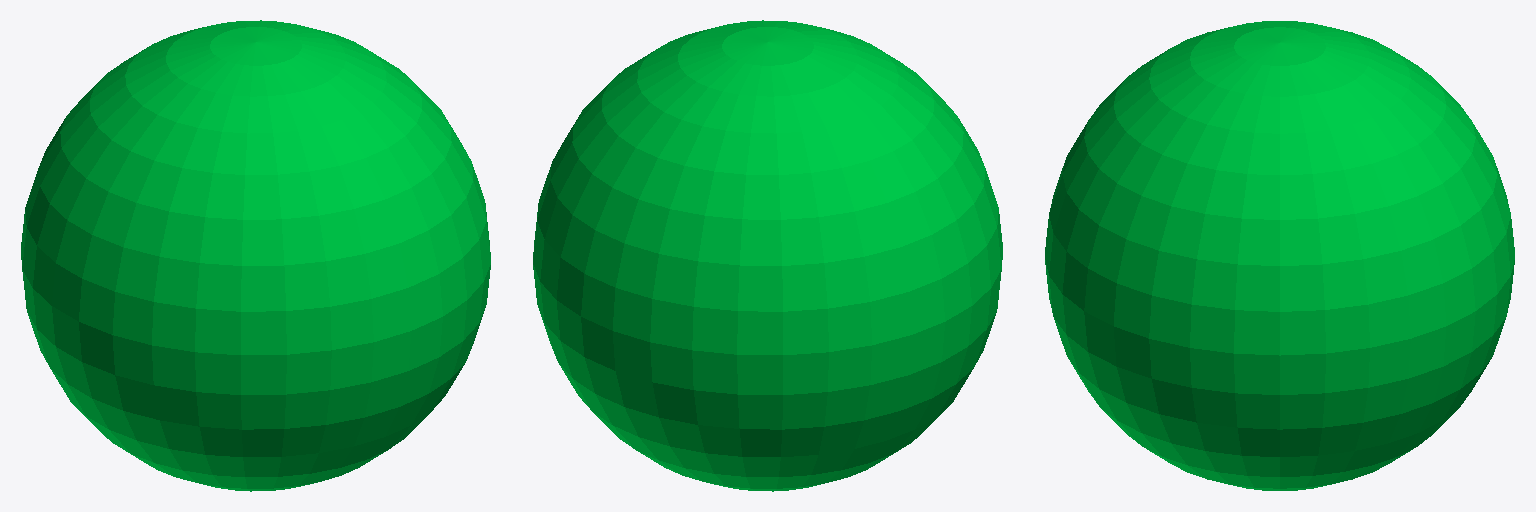
URDF robot description (box):
<robot name="box">

  <link name="box">
		<visual>
		    <origin xyz="0 0 0." rpy="0 0 0"/>
			<geometry>
                <sphere radius="0.50"/>
            </geometry>
            <material name="anotherOne">
	       		<color rgba="0 0.8 0.3 1.0"/>
	     	</material>
		</visual>
        <collision>
            <geometry>
                <sphere radius="0.50"/>
            </geometry>
        </collision>
        <inertial>
          <mass value="0.002"/>
        <inertia ixx=".50" ixy="0.0" ixz="0" iyy=".5" iyz="0.0" izz=".5"/>
    </inertial>
  </link>

</robot>

--- Facts derived from the render (not from the file) ---
Views: 3 orthographic renders of the robot side by side, from view 1: azimuth 30°, elevation 25°; view 2: azimuth 150°, elevation 25°; view 3: azimuth 270°, elevation 25°.
Model box with 1 links and 0 joints (none), rooted at box, posed all joints at 0.
Visible links, largest first — view 1: box; view 2: box; view 3: box.
Boxes of the visible links, x1,y1,x2,y2 form: box: [21, 20, 490, 491]; box: [533, 20, 1002, 491]; box: [1045, 21, 1514, 490].
Size in the robot's own frame: 1 by 1 by 1 metres.
Geometry: primitives only (box / cylinder / sphere), no mesh files.